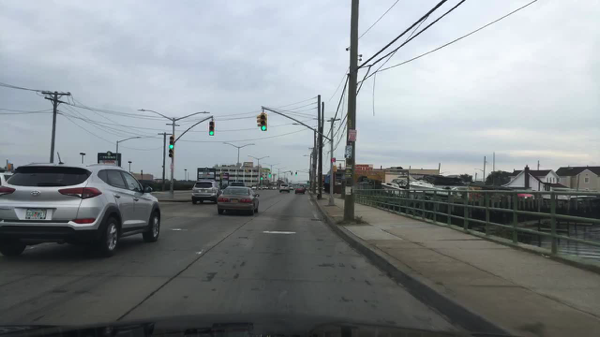car: (0, 164, 161, 257), (216, 186, 258, 215), (190, 181, 221, 205), (1, 171, 17, 189), (279, 184, 290, 193), (231, 182, 245, 188), (294, 187, 304, 195), (218, 189, 225, 196), (289, 185, 294, 191), (251, 185, 257, 190), (262, 185, 268, 189), (299, 185, 305, 188), (258, 187, 262, 190)
traffic light: (260, 113, 266, 130), (169, 135, 173, 158), (209, 121, 214, 135), (257, 116, 261, 127), (260, 175, 262, 180), (290, 172, 292, 176), (295, 172, 297, 175)
traffic sign: (98, 151, 121, 166), (198, 168, 215, 179), (347, 129, 356, 141), (343, 146, 351, 159), (331, 158, 336, 162)
